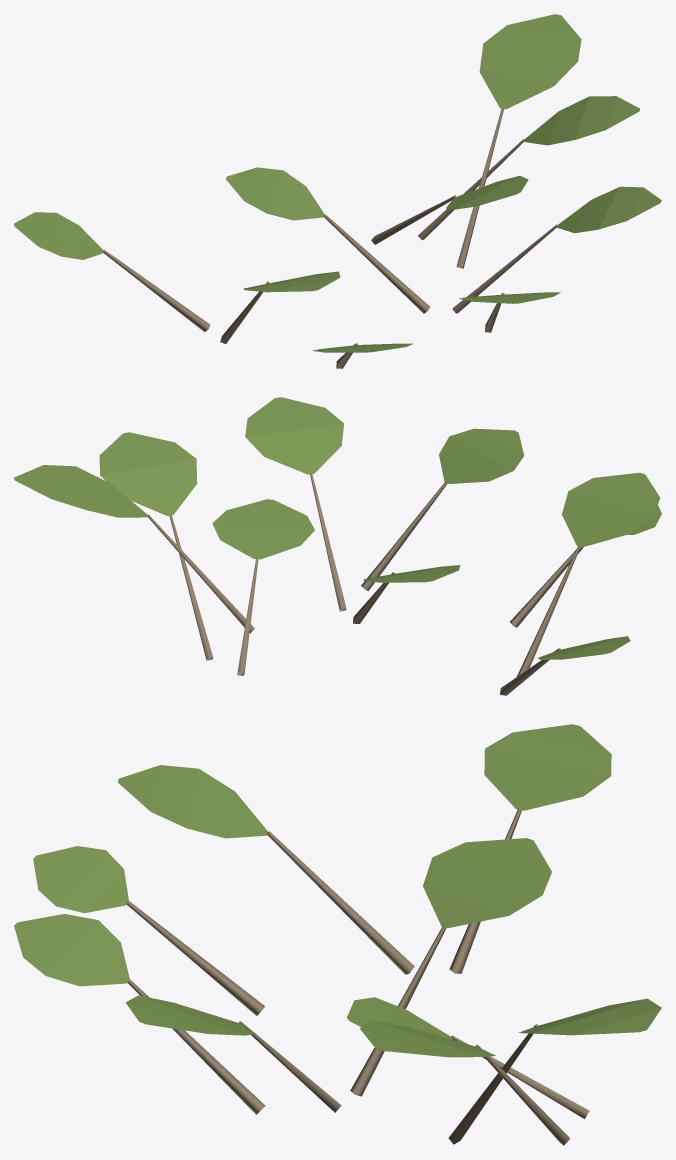
The model's file is floor_lod0.glb.
The picture shows the model from 3 angles, top to bottom: view 1: azimuth 30°, elevation 25°; view 2: azimuth 150°, elevation 25°; view 3: azimuth 270°, elevation 25°; orthographic projection. The views are drawn at different scales.
Parts seen in each view (by area): view 1: Leaves, Bark; view 2: Leaves, Bark; view 3: Leaves, Bark.
Boxes of the visible parts, <box> form: Leaves: <box>14,14,661,352</box>; Bark: <box>103,108,557,368</box>; Leaves: <box>14,397,661,659</box>; Bark: <box>147,473,583,695</box>; Leaves: <box>14,724,661,1057</box>; Bark: <box>127,808,589,1145</box>.
Size of the model in its own units: 0.825 by 0.2262 by 0.5927.
